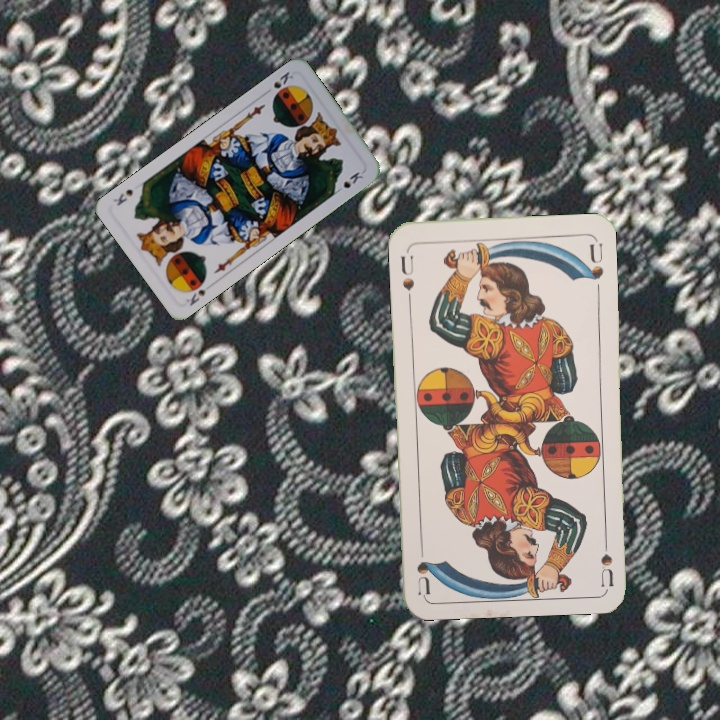SK: (260, 67, 296, 97), (182, 284, 209, 309)
SU: (596, 528, 616, 587), (396, 251, 416, 304)
